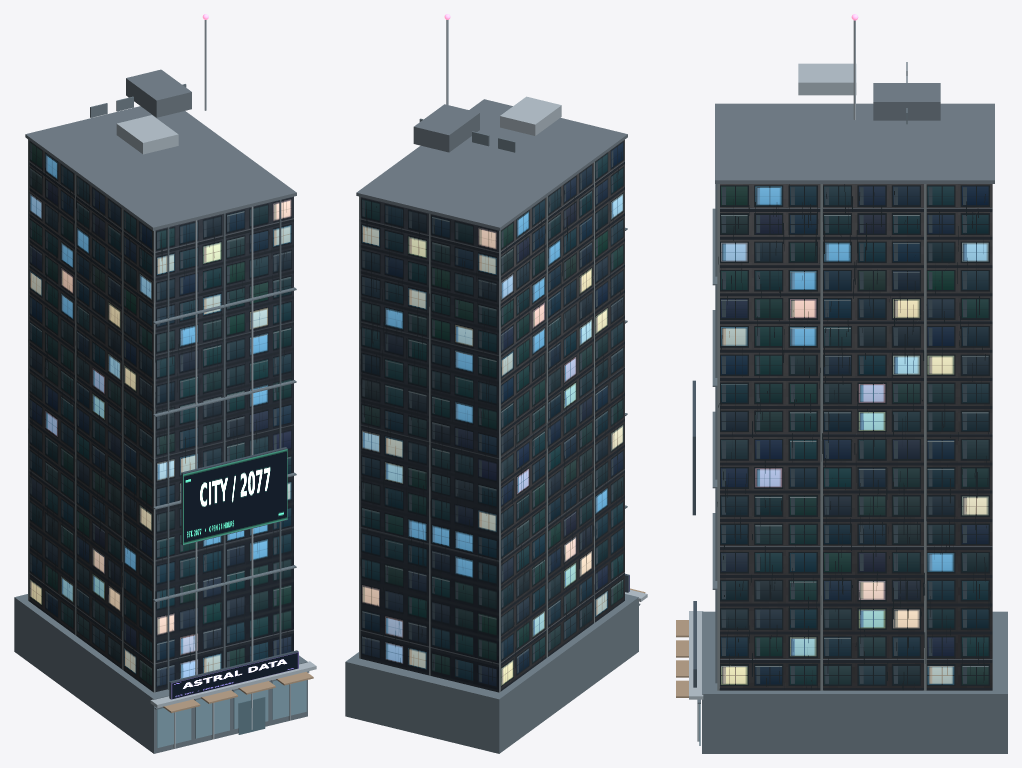
The model's file is building_03.glb.
The picture shows the model from 3 angles, left to right: view 1: azimuth 30°, elevation 25°; view 2: azimuth 150°, elevation 25°; view 3: azimuth 270°, elevation 25°; orthographic projection. The views are drawn at different scales.
Visible parts, largest first — view 1: facade_sideb_3, facade_0, roof, frame, ad_9, alum, glass, sign_8, wood, dark, tint; view 2: facade_back_1, facade_sideb_3, frame, roof, alum; view 3: facade_side_2, frame, roof, alum, wood, dark.
Part boxes in pixels (box(x1,y1,x2,y2)): facade_sideb_3: box(28, 139, 153, 692); facade_0: box(154, 196, 293, 692); roof: box(25, 69, 296, 230); frame: box(14, 84, 309, 753); ad_9: box(183, 449, 287, 544); alum: box(116, 20, 316, 748); glass: box(157, 680, 306, 747); sign_8: box(171, 652, 298, 699); wood: box(163, 672, 313, 713); dark: box(169, 447, 298, 699); tint: box(238, 697, 265, 734); facade_back_1: box(359, 196, 499, 692); facade_sideb_3: box(499, 140, 624, 691); frame: box(345, 118, 640, 753); roof: box(356, 99, 627, 230); alum: box(446, 20, 647, 601); facade_side_2: box(717, 184, 992, 690); frame: box(697, 62, 1007, 753); roof: box(715, 83, 994, 183); alum: box(689, 20, 856, 741); wood: box(676, 620, 688, 697); dark: box(692, 380, 696, 687).
Bounding box in the file's own units: 23.2 × 91.68 × 38.18.
21 materials, 10 textured.
